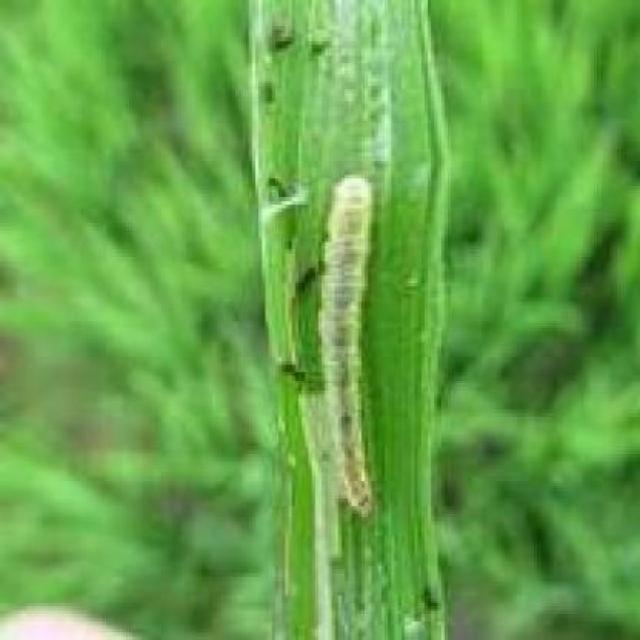leaf-folder: (301, 163, 402, 540)
